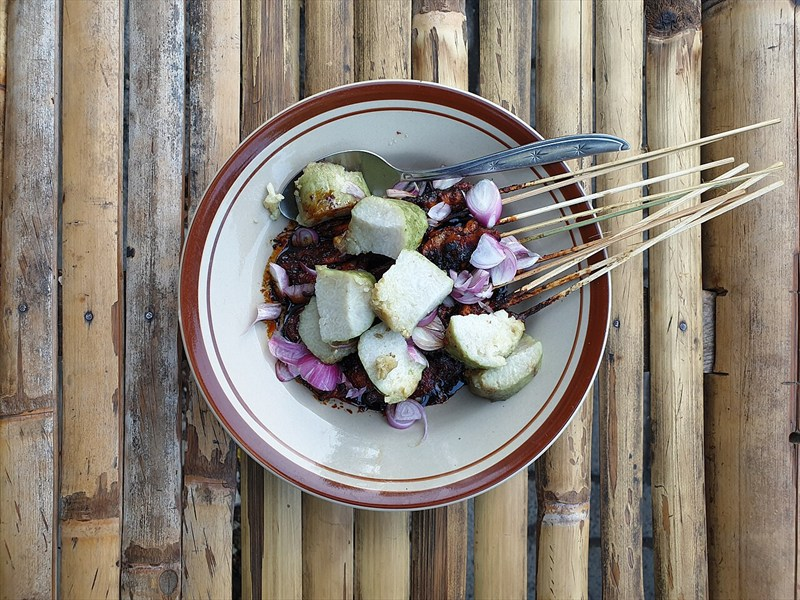Sate Ayam: (177, 64, 733, 481)
